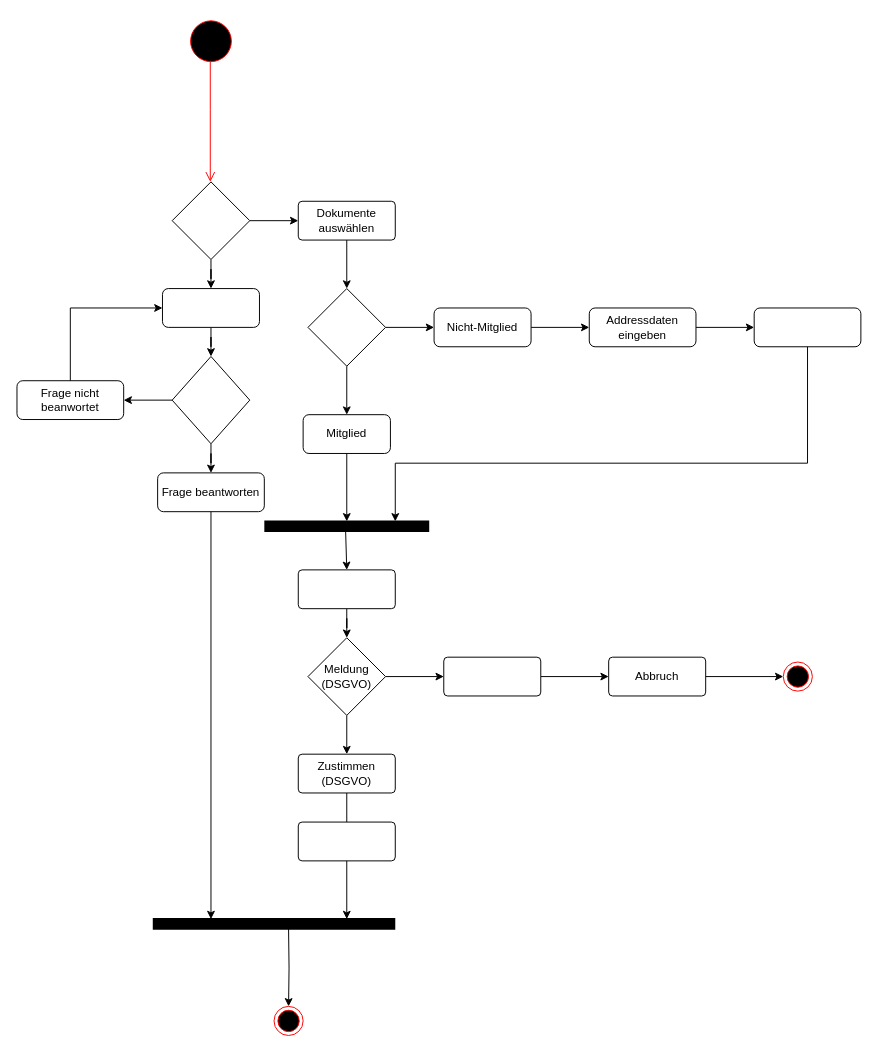
Image size: 878x1052. Some labels were removed from this diagram. The shapes that lost their labels are listed below. From the top down, each one's centre as x and y in pixels, then its label:
At [210,307]: "Frage (stellen)".
At [807,327]: "Adressdaten bestätigen".
At [346,589]: "Zugang zu den Dokumente".
At [492,676]: "Ablehnen (DSGVO)".
At [346,841]: "Zugang genehmigt".
